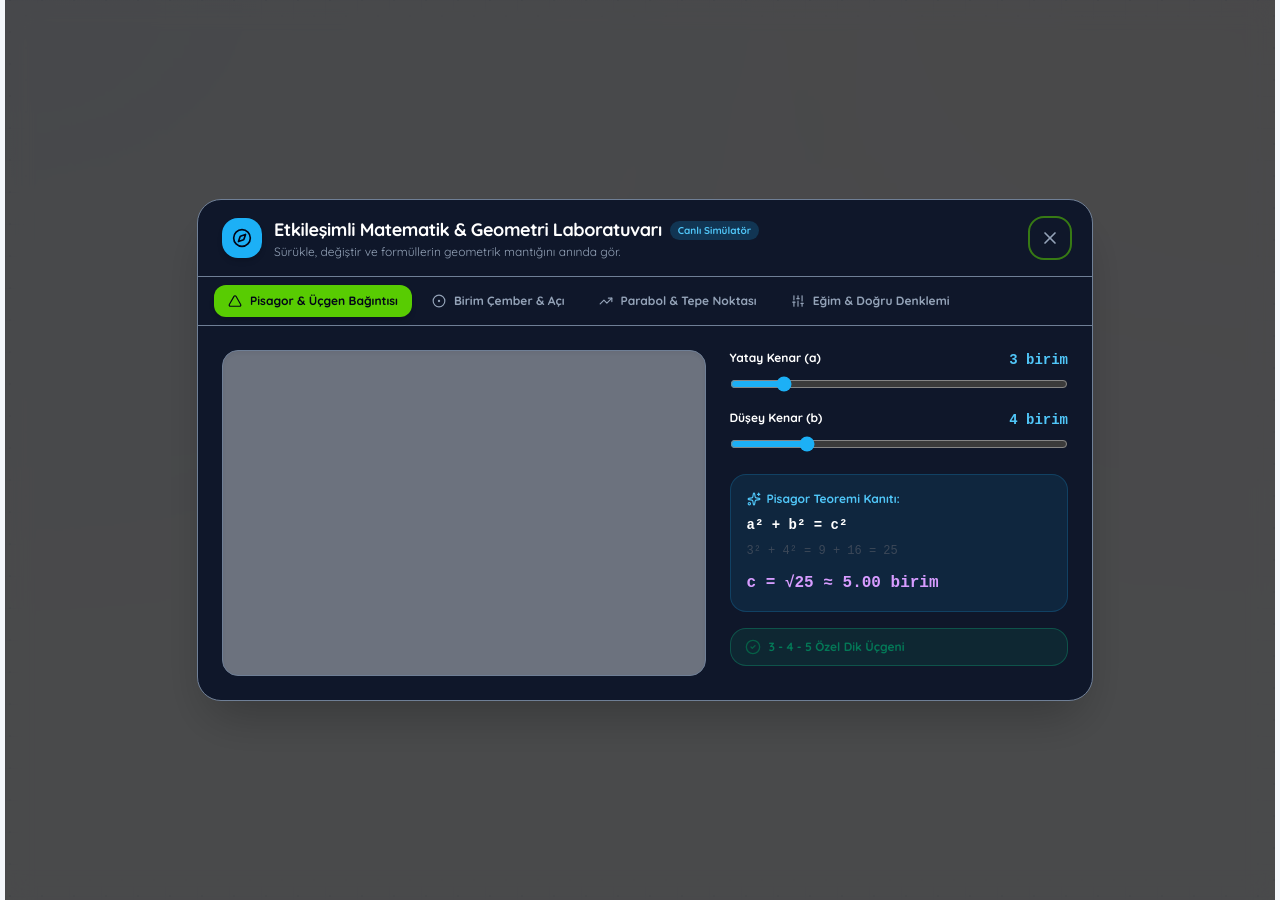
Test: GeometryMathLabModal › switches to Parabola tab and displays vertex information
Click the button "Parabol & Tepe Noktası" at (678, 301), box [585, 285, 771, 317]
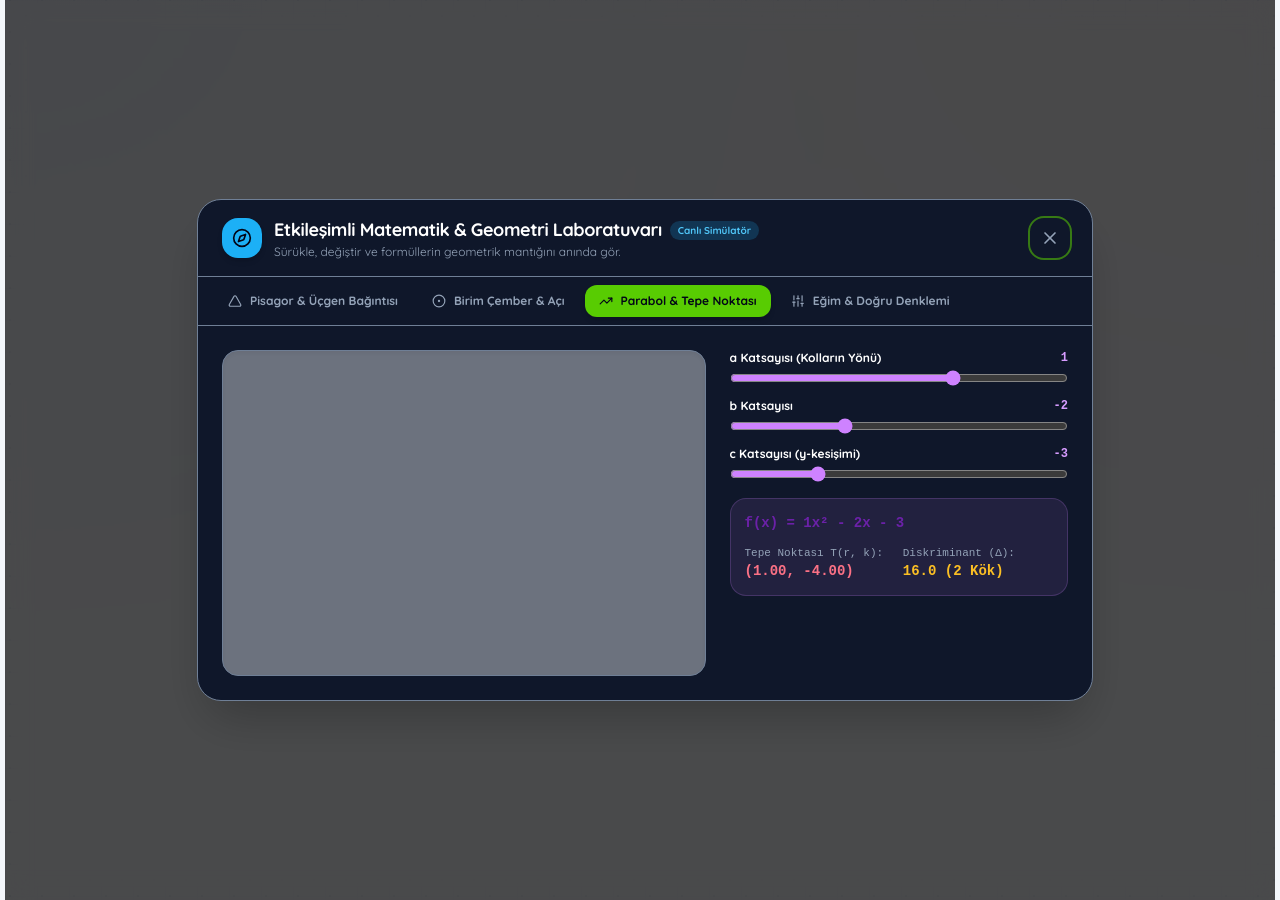
Expected: the text "Tepe Noktası T(r, k):" is shown, [744, 545, 895, 561]
